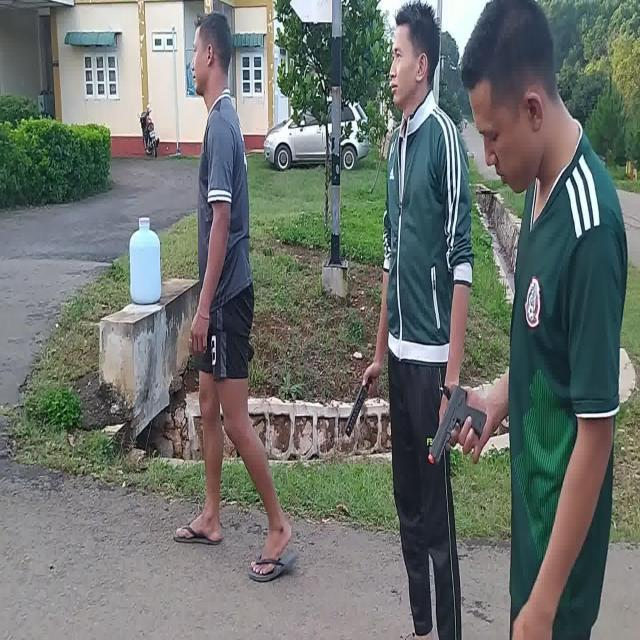gun: (428, 387, 488, 465)
